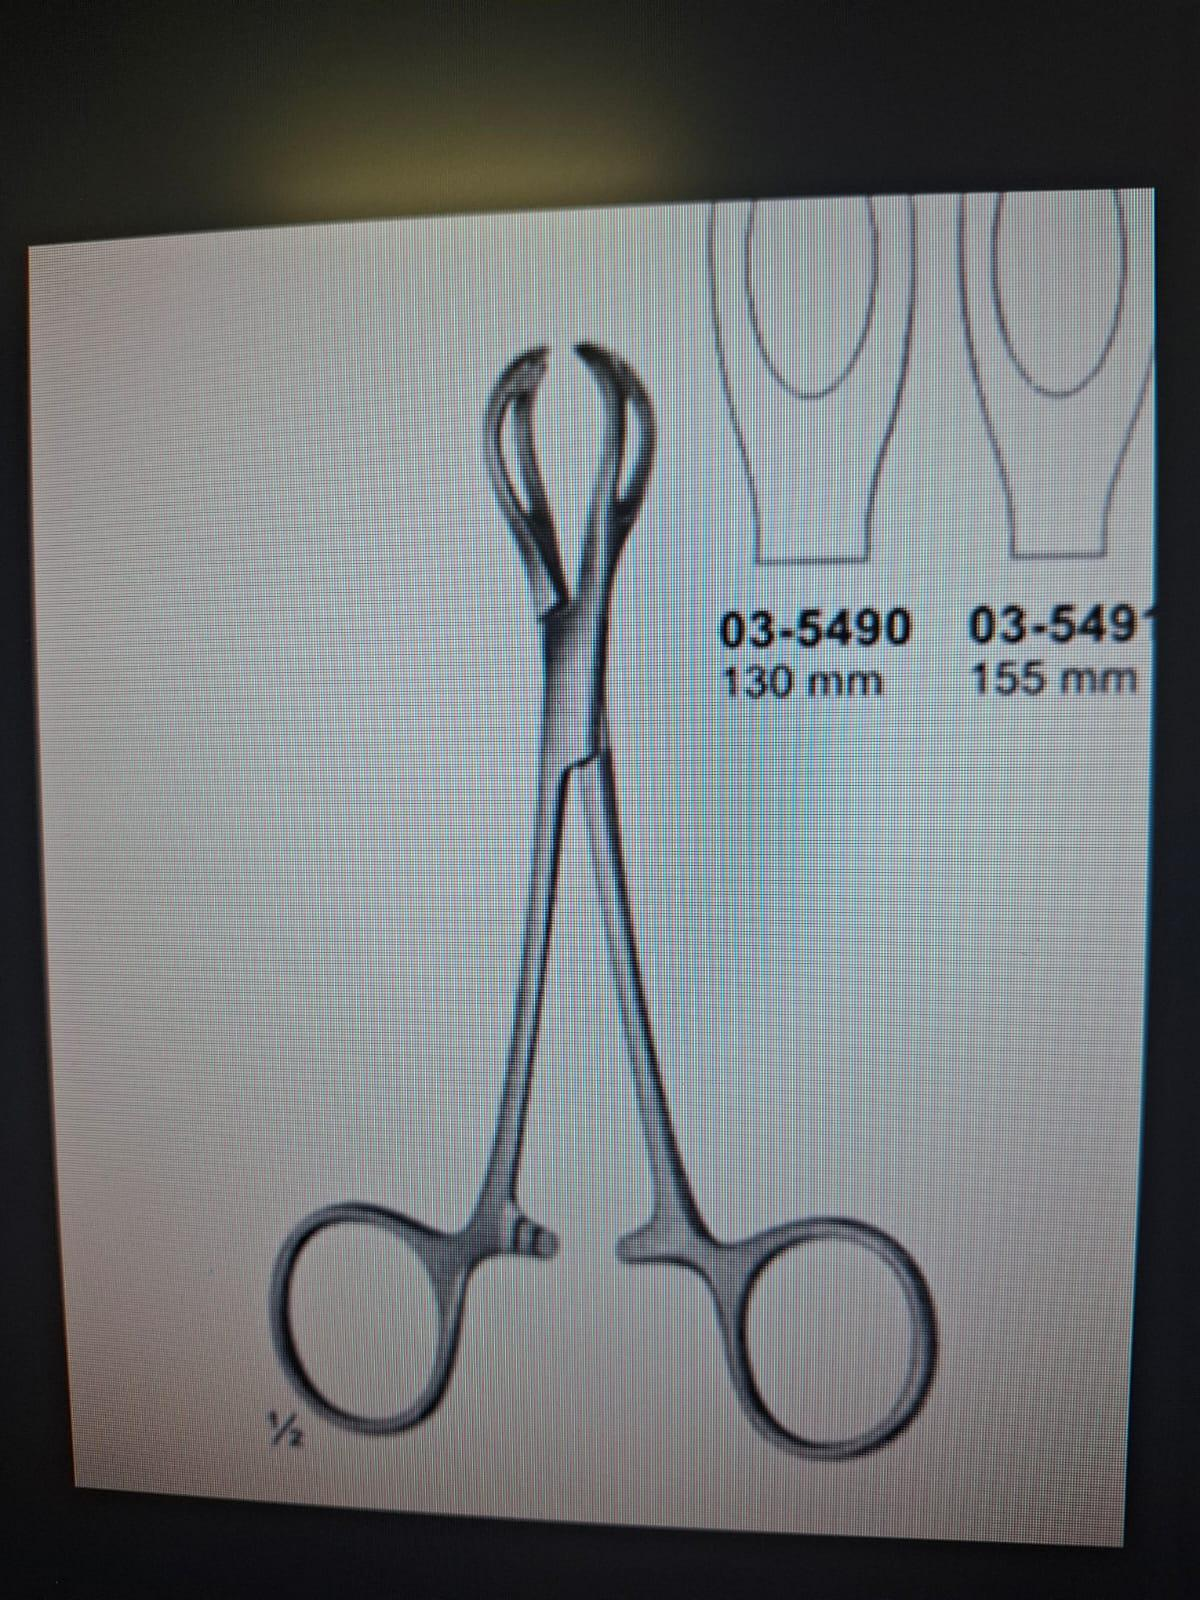Lane Tissue Forceps: (263, 328, 950, 1465)
